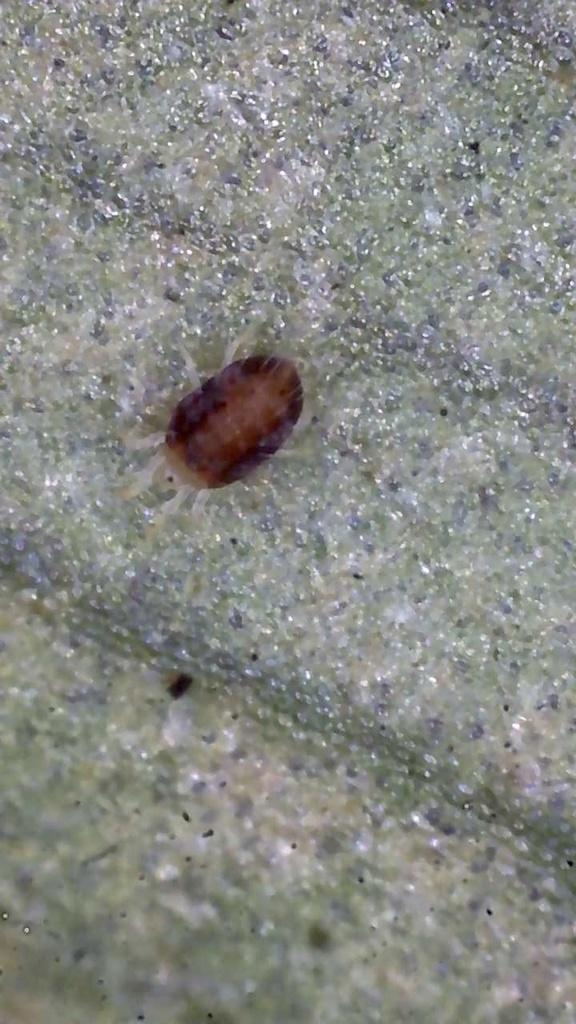tiny_pests: (54, 279, 374, 570)
